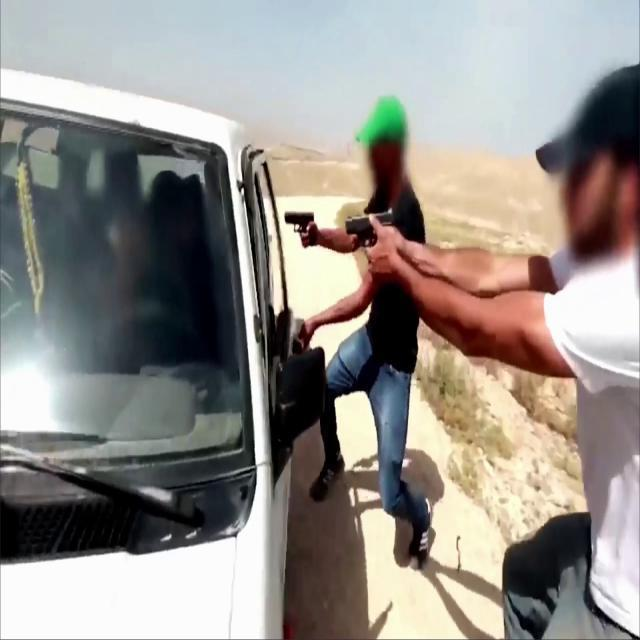gun: (344, 209, 396, 265), (284, 209, 318, 248)
